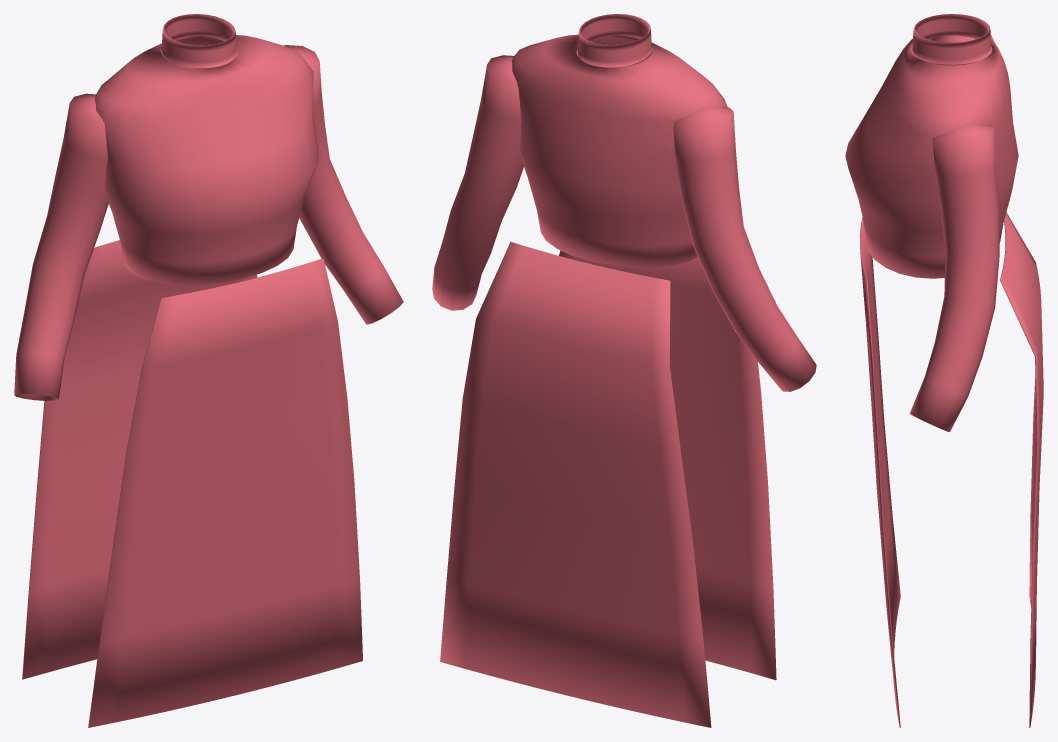
File: aodai_traditional_v2.glb
3 renders of one model, left to right at view 1: azimuth 30°, elevation 25°; view 2: azimuth 150°, elevation 25°; view 3: azimuth 270°, elevation 25°, orthographic.
Visible parts, largest first — view 1: aodai_traditional_v2; view 2: aodai_traditional_v2; view 3: aodai_traditional_v2.
Boxes of the visible parts, x1,y1,x2,y2 form: aodai_traditional_v2: (14,14,403,727); aodai_traditional_v2: (432,14,816,727); aodai_traditional_v2: (845,14,1043,727).
Bounding box in the file's own units: 0.7837 × 1.26 × 0.3567.
